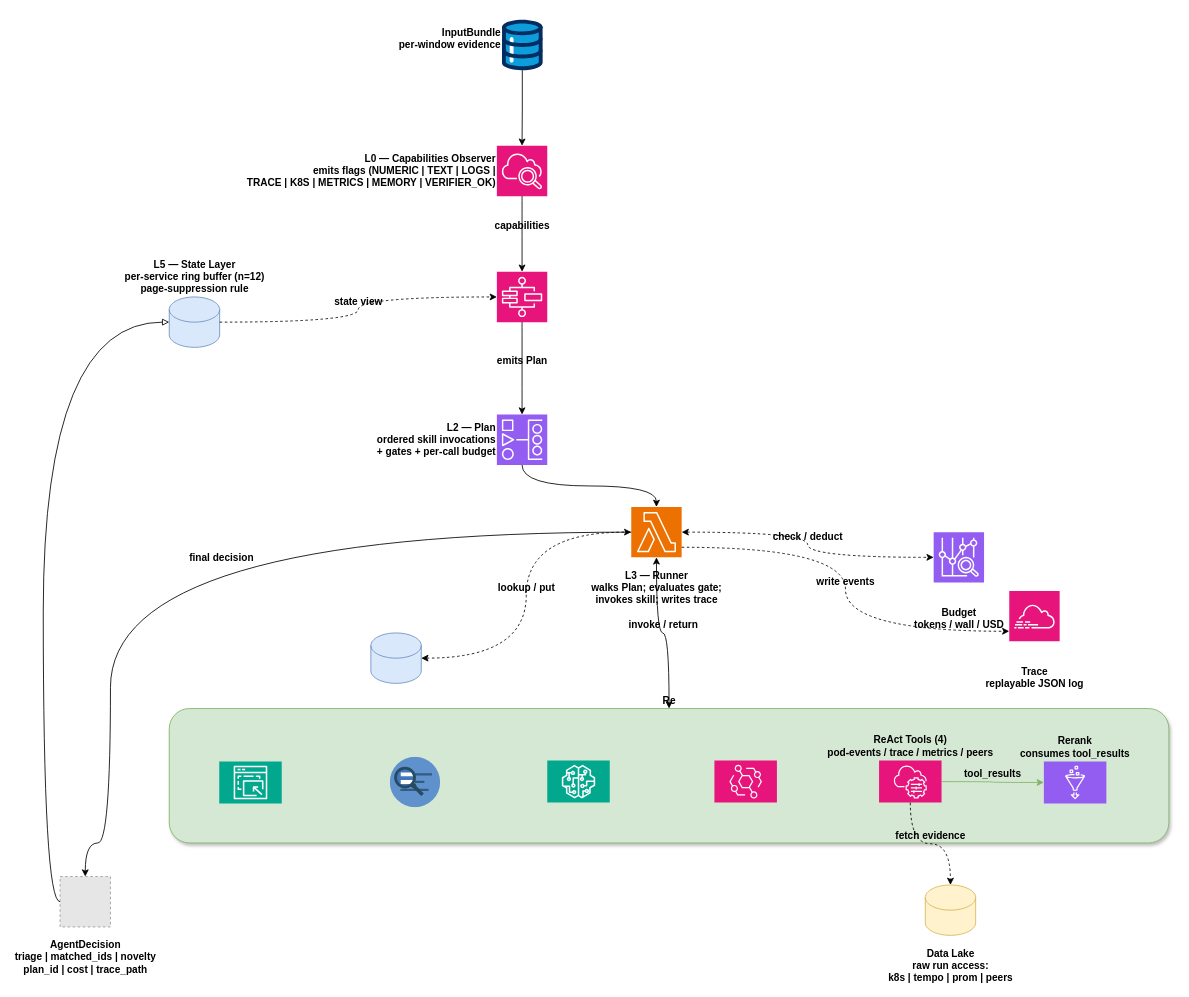
Image size: 1189x997. Some labels were removed from this diagram. Grey dashed boxes stand in for pictures. Here are the shapes that lost their labels. From the top down, the centre of each, then its label:
At point (521, 296): "L1 — Controller CapabilityAwareRuleController selects 1 of 6 branches".
At point (395, 657): "SkillCache content-addressed on-disk cache".
At point (250, 782): "Triage HGB classifier".
At point (415, 782): "Retrievers(5) Dense / Log-Seq / Hybrid/ KG".
At point (578, 781): "LLM Verifier root-cause check".
At point (745, 781): "Composers (3) L2 RRF / triage / novelty".
